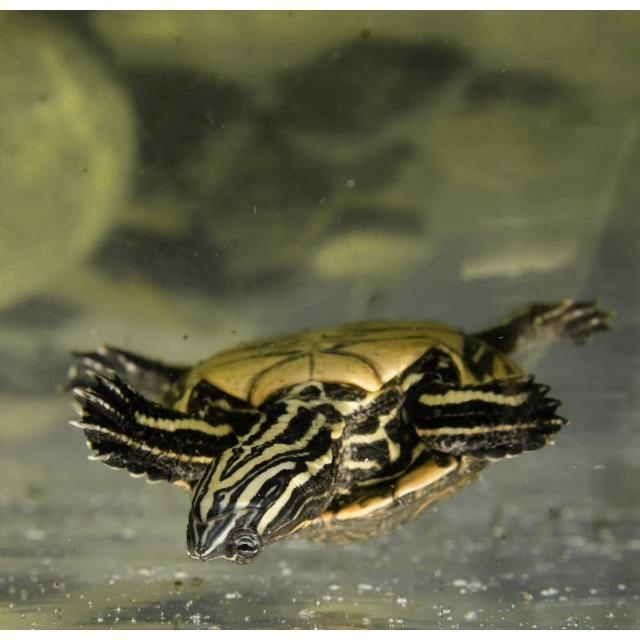turtle: (65, 298, 615, 566)
